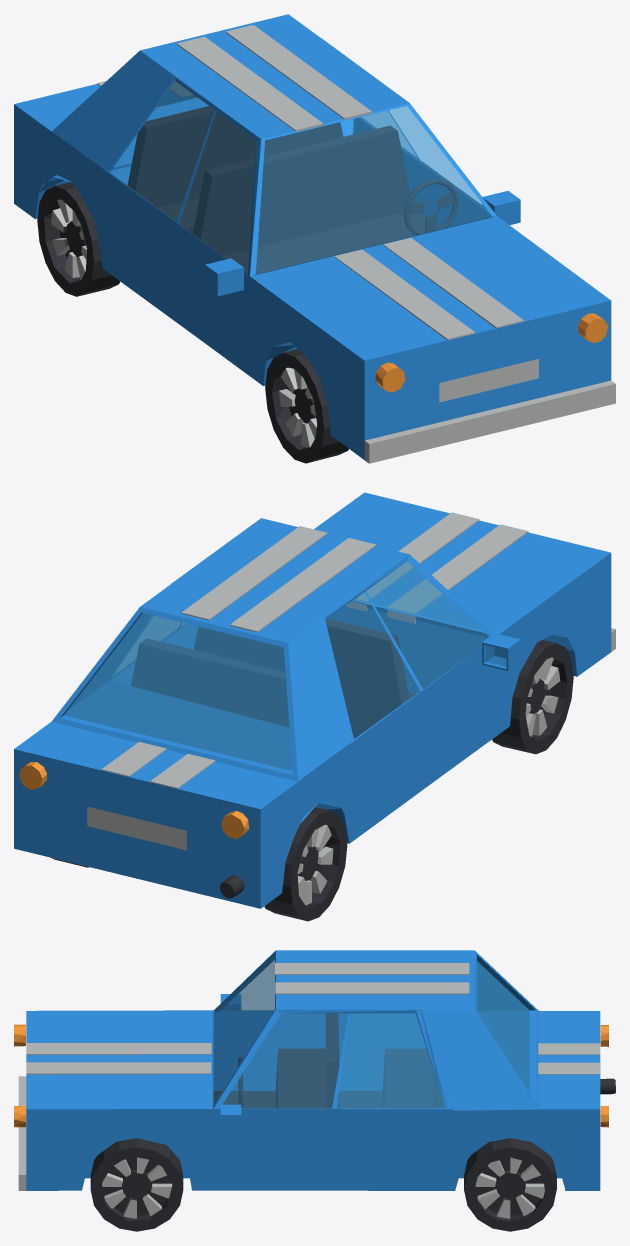
File: voiture2.gltf
3 views of the same model, one above another, from view 1: azimuth 30°, elevation 25°; view 2: azimuth 150°, elevation 25°; view 3: azimuth 270°, elevation 25° (orthographic). The views are drawn at different scales.
Visible parts, largest first — view 1: carrosserie, parebrise, siege_avant, siege_arriere, fenetre_doite_avant, fenetre_droite_arrière, bas_de_caisse, roues_avant_droite, roue_arriere_droite, bande_toit_gauche, bande_toit_droite, bande_avant_gauche (+10 smaller); view 2: carrosserie, fenetre_arriere, bloc_arriere, siege_avant, siege_arriere, fenetre_doite_avant, fenetre_droite_arrière, roue_arriere_droite, roues_avant_droite, bloc_avant, bande_toit_droite, bande_toit_gauche (+10 smaller); view 3: carrosserie, fenetre _gauche _avant, fenetre _gauche _arrière, roues_avant_gauche, roue_arriere_gauche, parebrise, siege_avant, fenetre_arriere, siege_arriere, bande_toit_droite, bande_avant_droite, bande_toit_gauche (+8 smaller).
Boxes of the visible parts, x1,y1,x2,y2 form: carrosserie: (14,14,611,459); parebrise: (256,106,491,274); siege_avant: (193,125,437,274); siege_arriere: (127,106,343,233); fenetre_doite_avant: (179,111,256,274); fenetre_droite_arrière: (110,81,214,221); bas_de_caisse: (364,380,615,463); roues_avant_droite: (265,349,348,463); roue_arriere_droite: (37,182,120,296); bande_toit_gauche: (177,36,323,131); bande_toit_droite: (226,25,371,119); bande_avant_gauche: (334,249,475,340); carrosserie: (14,492,611,908); fenetre_arriere: (64,613,292,770); bloc_arriere: (65,681,292,770); siege_avant: (194,619,415,738); siege_arriere: (131,638,288,727); fenetre_doite_avant: (366,562,488,688); fenetre_droite_arrière: (326,592,419,738); roue_arriere_droite: (264,807,347,921); roues_avant_droite: (492,640,573,754); bloc_avant: (328,601,488,693); bande_toit_droite: (181,526,327,620); bande_toit_gauche: (230,538,376,632); carrosserie: (26,950,600,1190); fenetre _gauche _avant: (223,1013,347,1108); fenetre _gauche _arrière: (337,1013,445,1108); roues_avant_gauche: (90,1138,183,1231); roue_arriere_gauche: (464,1138,556,1231); parebrise: (213,953,274,1104); siege_avant: (275,1013,338,1108); fenetre_arriere: (477,961,529,1092); siege_arriere: (383,1049,444,1107); bande_toit_droite: (275,982,469,994); bande_avant_droite: (26,1062,211,1074); bande_toit_gauche: (275,963,469,975).
Size of the model in its own units: 3.91 by 3.04 by 8.22.
9 materials, 9 textured.
